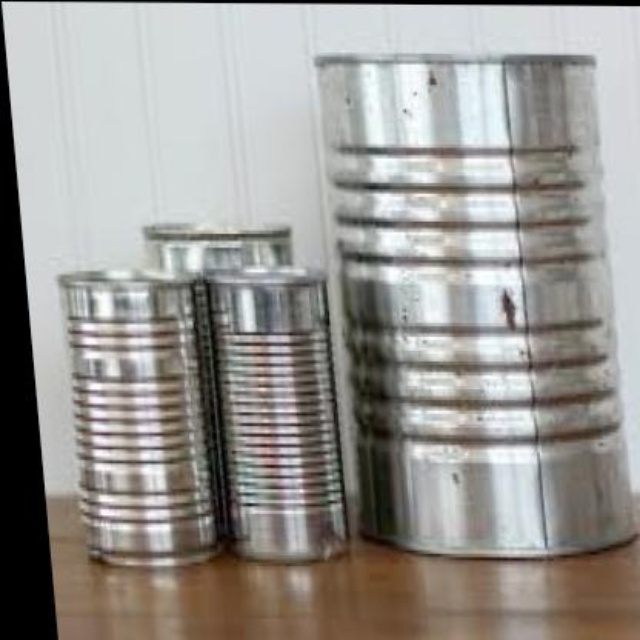trash: (320, 57, 631, 555), (60, 272, 217, 565), (208, 268, 343, 560)
